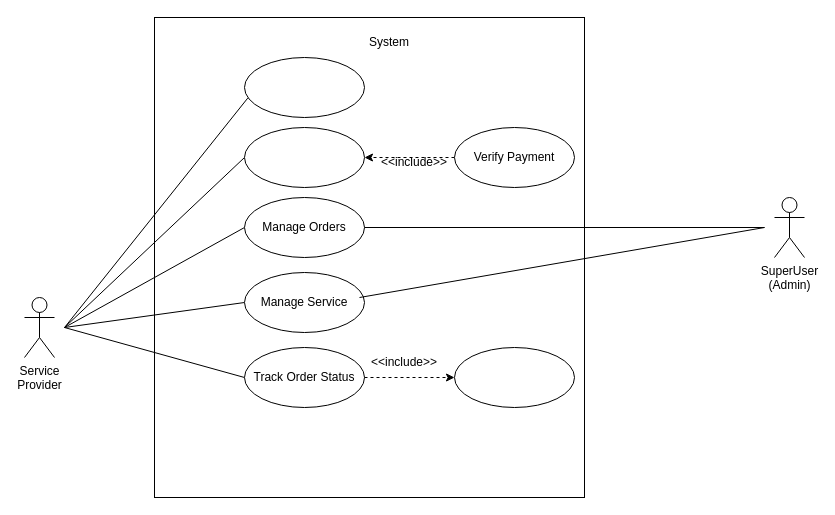
This 835x515 diagram has some shape labels left out. The centre of each missing label's shape, as x and y in pixels:
"Login /SignUp" goes at (304,87).
"Manage Payment" goes at (304,157).
"Push Notifications" goes at (514,377).
